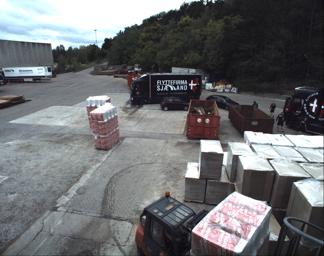rockwool_batts: (192, 186, 268, 255), (89, 102, 119, 147), (86, 94, 110, 115)
